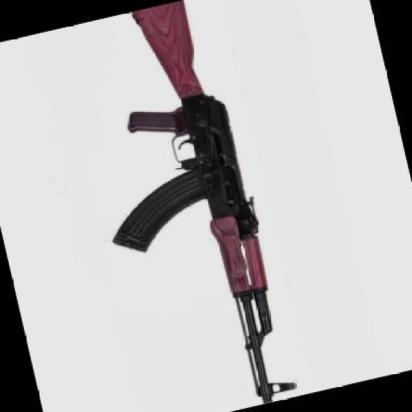Gun: (106, 0, 294, 412)
